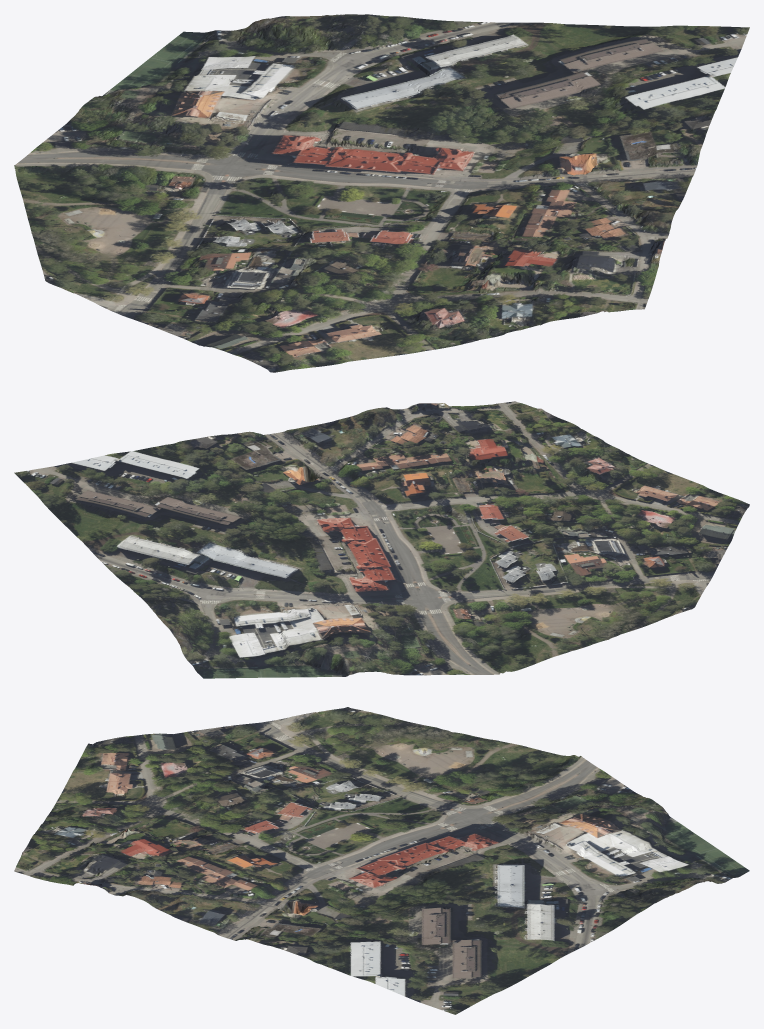
File: terrain.glb
3 renders of one model, top to bottom at view 1: azimuth 30°, elevation 25°; view 2: azimuth 150°, elevation 25°; view 3: azimuth 270°, elevation 25°, orthographic. The views are drawn at different scales.
Parts seen in each view (by area): view 1: terrain; view 2: terrain; view 3: terrain.
Part boxes in pixels (<box>): terrain: <box>14,14,749,372</box>; terrain: <box>14,401,749,678</box>; terrain: <box>14,707,749,1014</box>.
Bounding box in the file's own units: 383 × 19.26 × 364.
2 materials, 2 textured.
